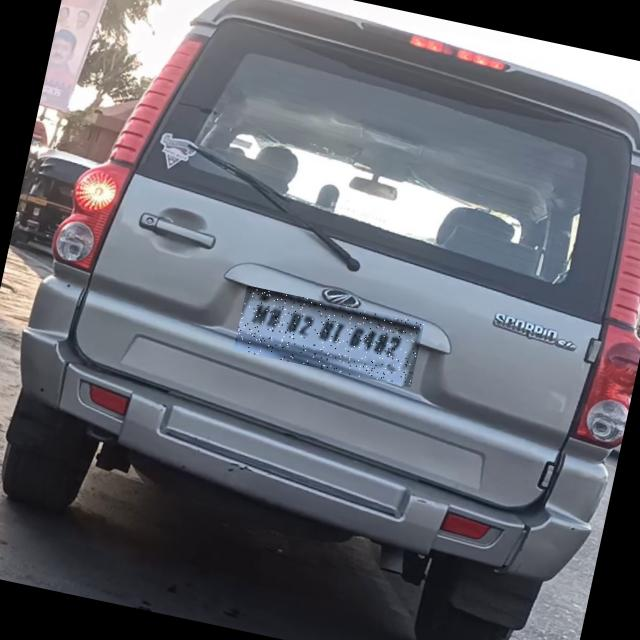Plate: (234, 286, 425, 388)
